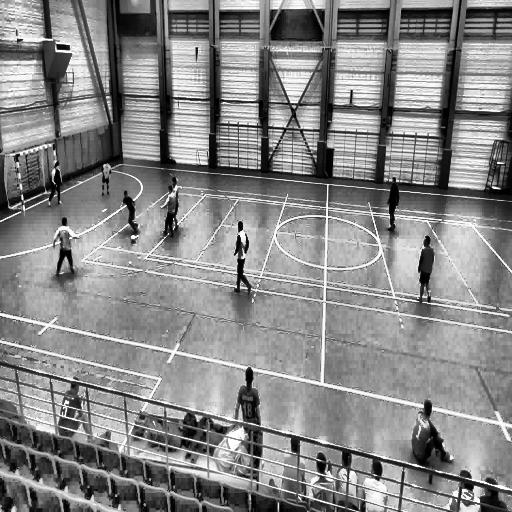ball: (129, 232, 137, 244)
player: (234, 366, 262, 447), (54, 216, 79, 277), (232, 220, 251, 294), (416, 235, 434, 304), (162, 181, 177, 239), (122, 188, 139, 236), (387, 176, 399, 231), (49, 160, 63, 206), (170, 176, 179, 234), (101, 161, 112, 197)
